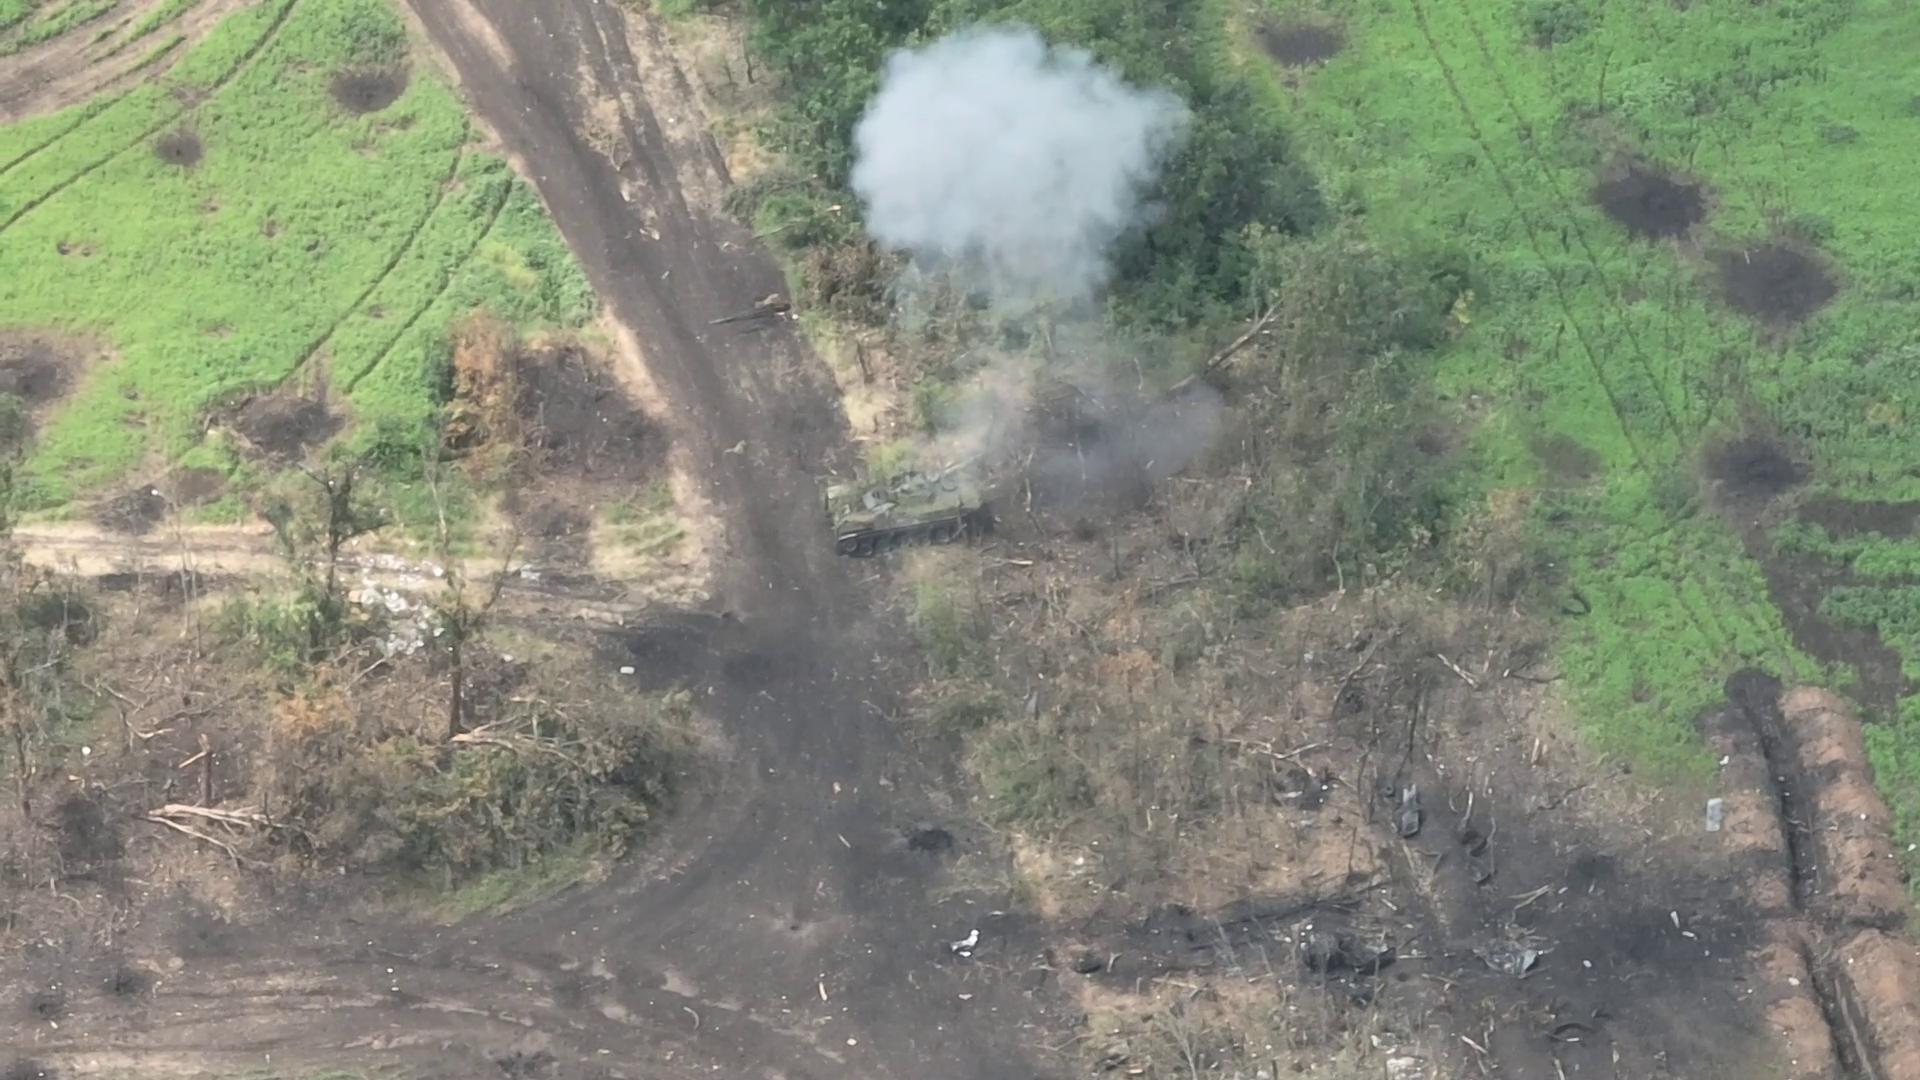tank: (819, 448, 1007, 560)
